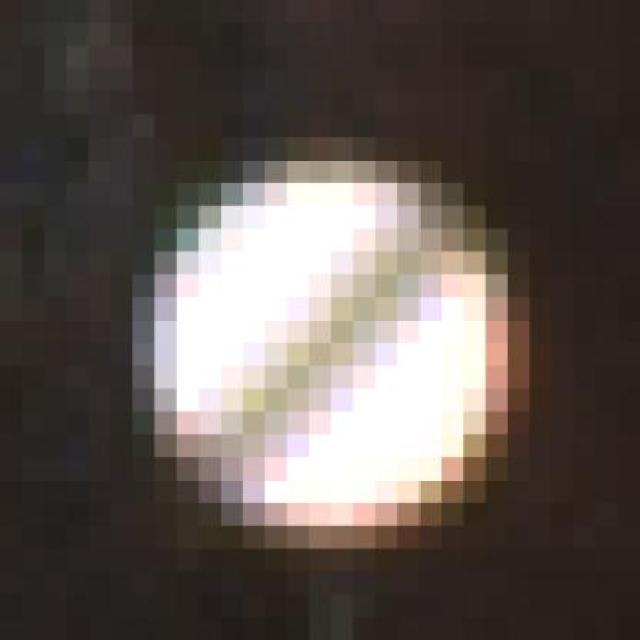End of all speed and passing limits: (86, 134, 572, 546)
